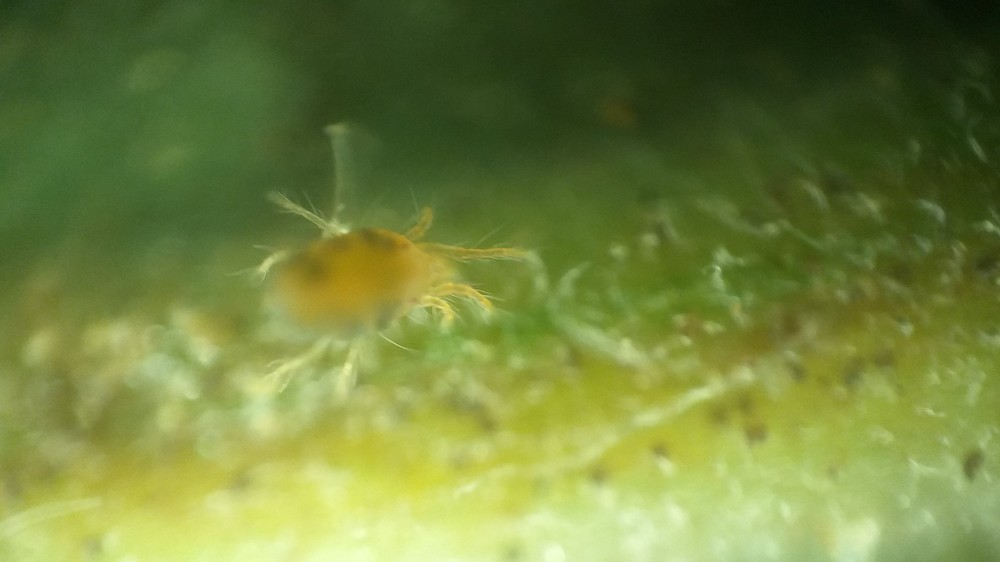Aracnido Rojo: (234, 174, 569, 390)
